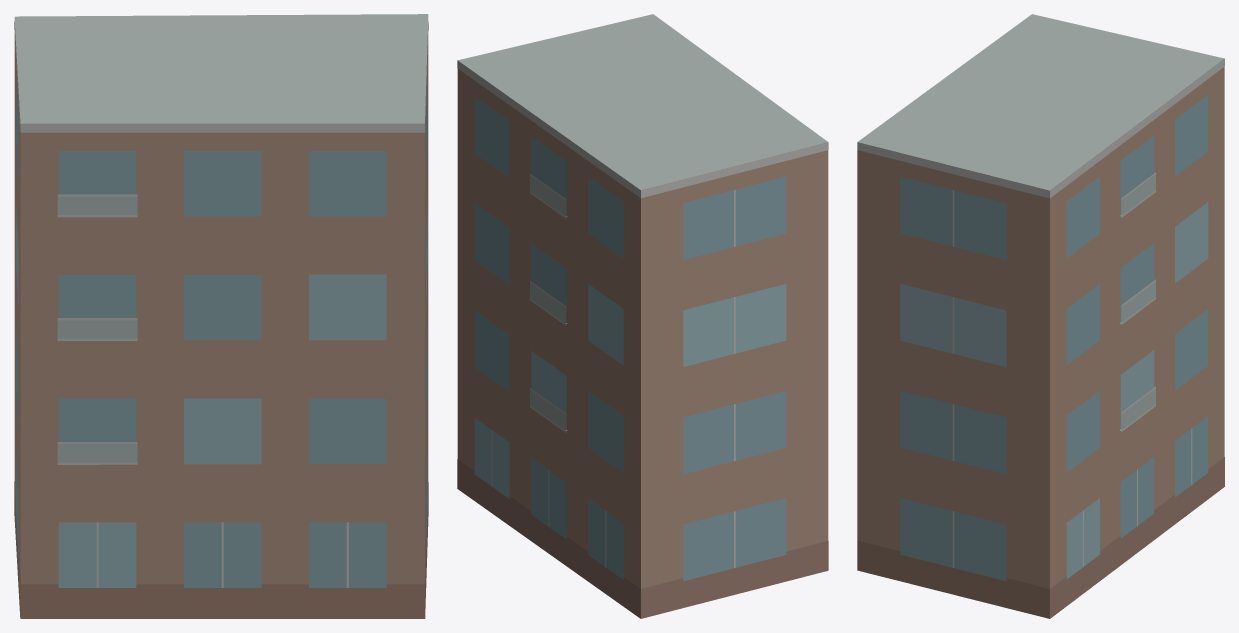
Rendered from survey-upis-33045517.glb.
The picture shows the model from 3 angles, left to right: view 1: azimuth 30°, elevation 25°; view 2: azimuth 150°, elevation 25°; view 3: azimuth 270°, elevation 25°; orthographic projection. The views are drawn at different scales.
Parts seen in each view (by area): view 1: survey-upis-33045517.tmp; view 2: survey-upis-33045517.tmp; view 3: survey-upis-33045517.tmp.
Part boxes in pixels (x1=…): survey-upis-33045517.tmp: x1=14, y1=14, x2=428, y2=618; survey-upis-33045517.tmp: x1=457, y1=14, x2=828, y2=618; survey-upis-33045517.tmp: x1=857, y1=14, x2=1224, y2=618.
Size of the model in its own units: 11.68 by 13.2 by 10.27.
